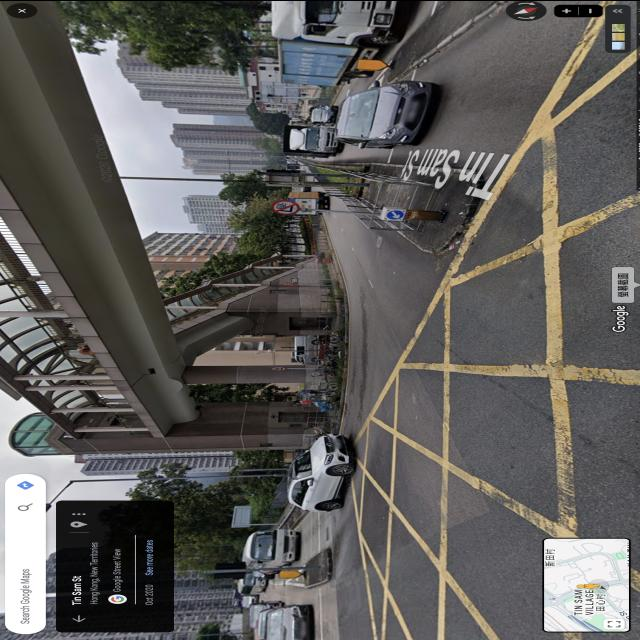Order-Sign: (272, 200, 298, 213), (386, 210, 404, 218), (270, 366, 288, 370)
